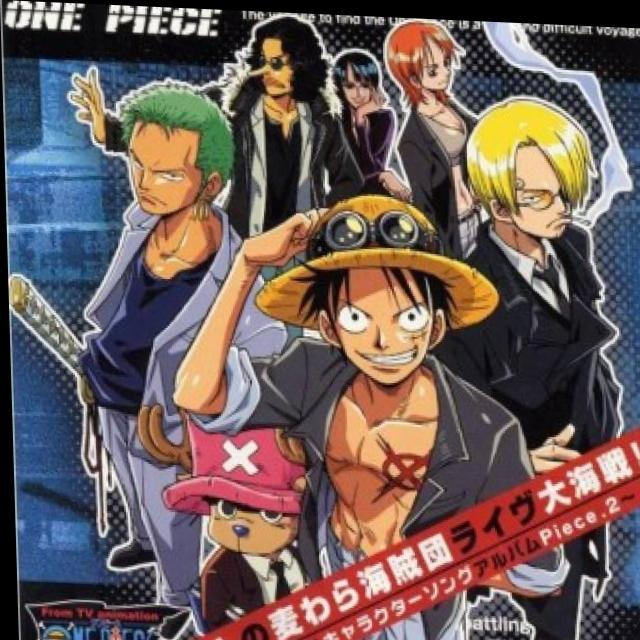Chyopa: (130, 398, 313, 568)
Luffy: (245, 198, 498, 388)
Nami: (382, 15, 485, 121)
NicoRobin: (326, 38, 386, 132)
Sangdi: (449, 82, 605, 249)
Usopp: (229, 14, 334, 114)
Zoro: (102, 70, 248, 233)
